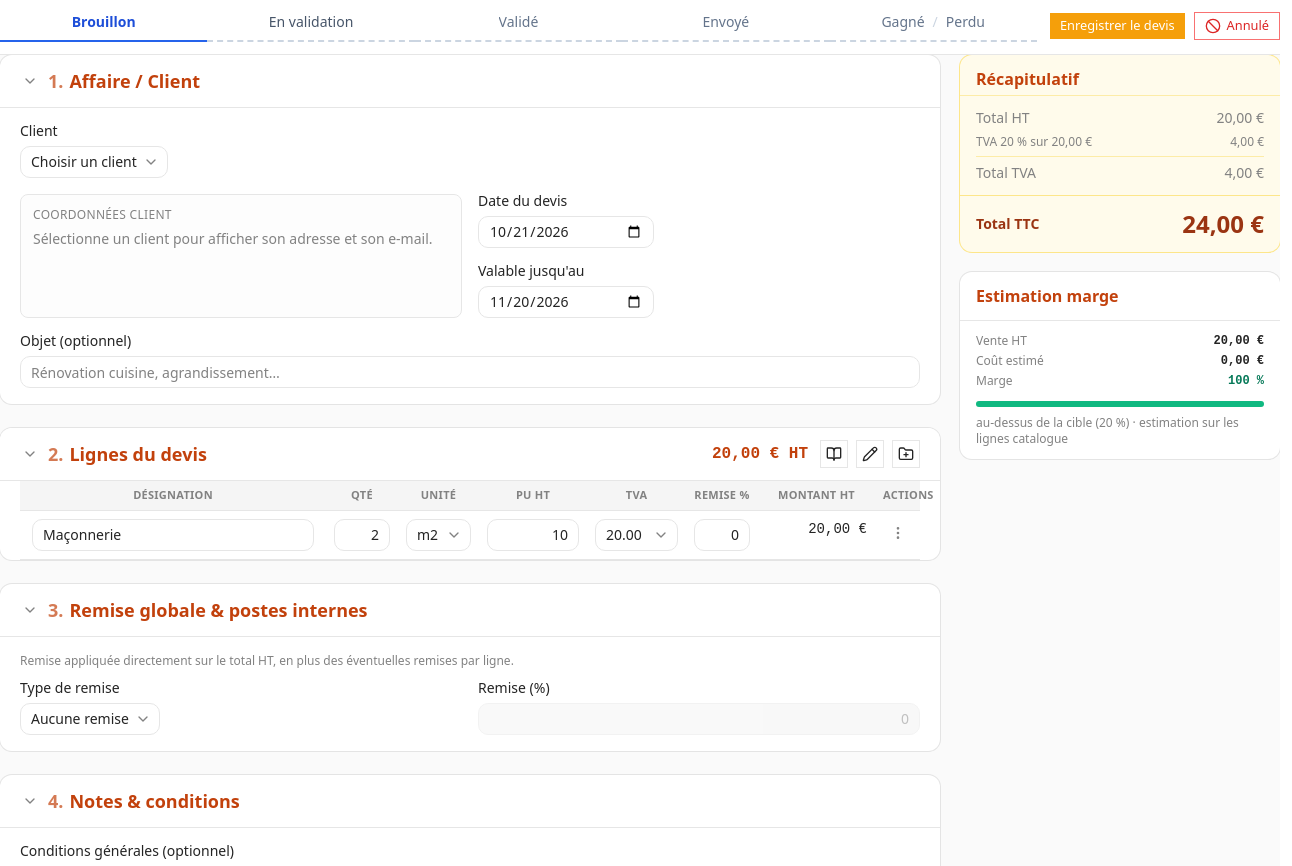
Test: Ligne de devis allégée — listes différées › change la TVA de la ligne via la liste montée au premier usage
The image size is (1292, 866).
Click the dropdown named "Taux de TVA" at (636, 534), box 595,518 -> 678,550
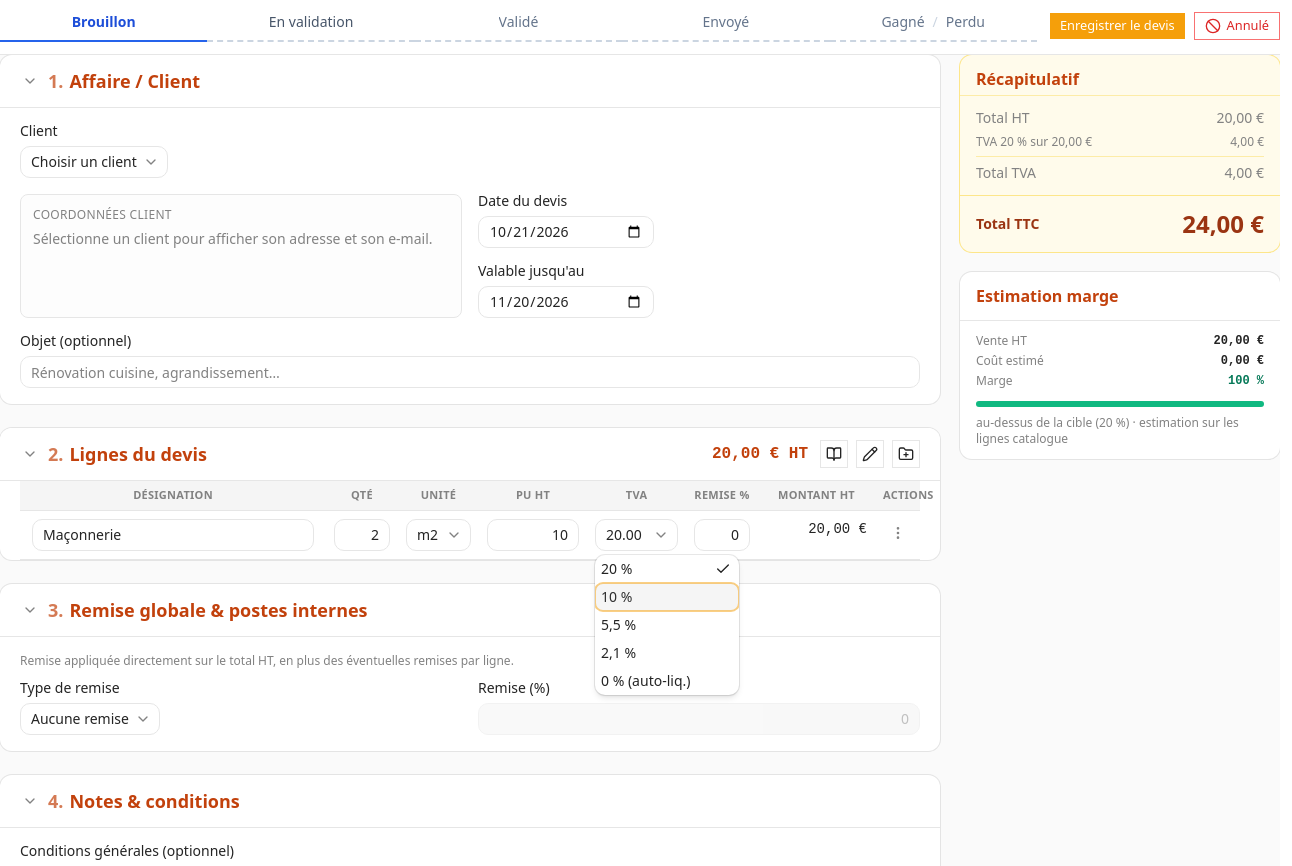
Press Enter in the option "10 %", box 595,583 -> 739,611
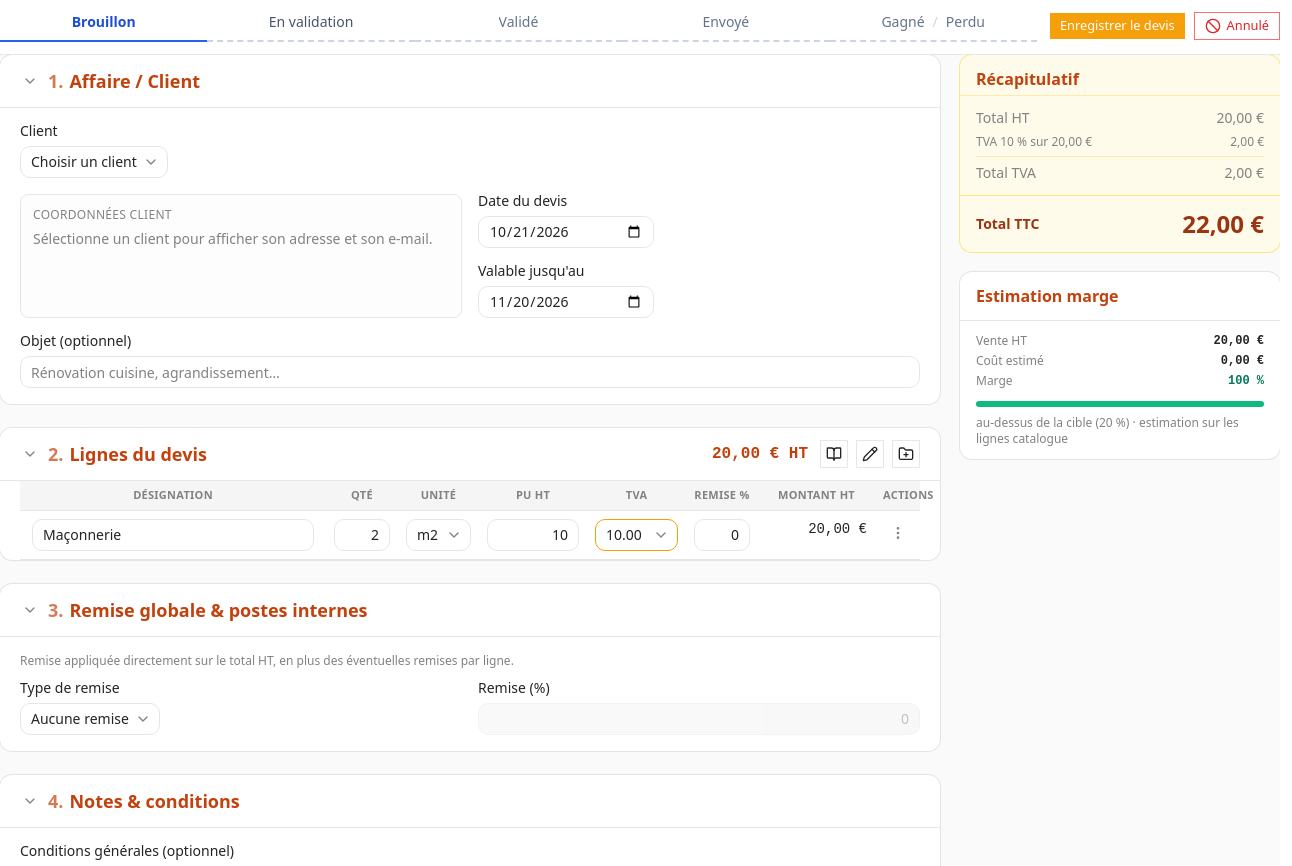
Result: the dropdown named "Taux de TVA" shows "10.00" at 595,518 -> 678,550
